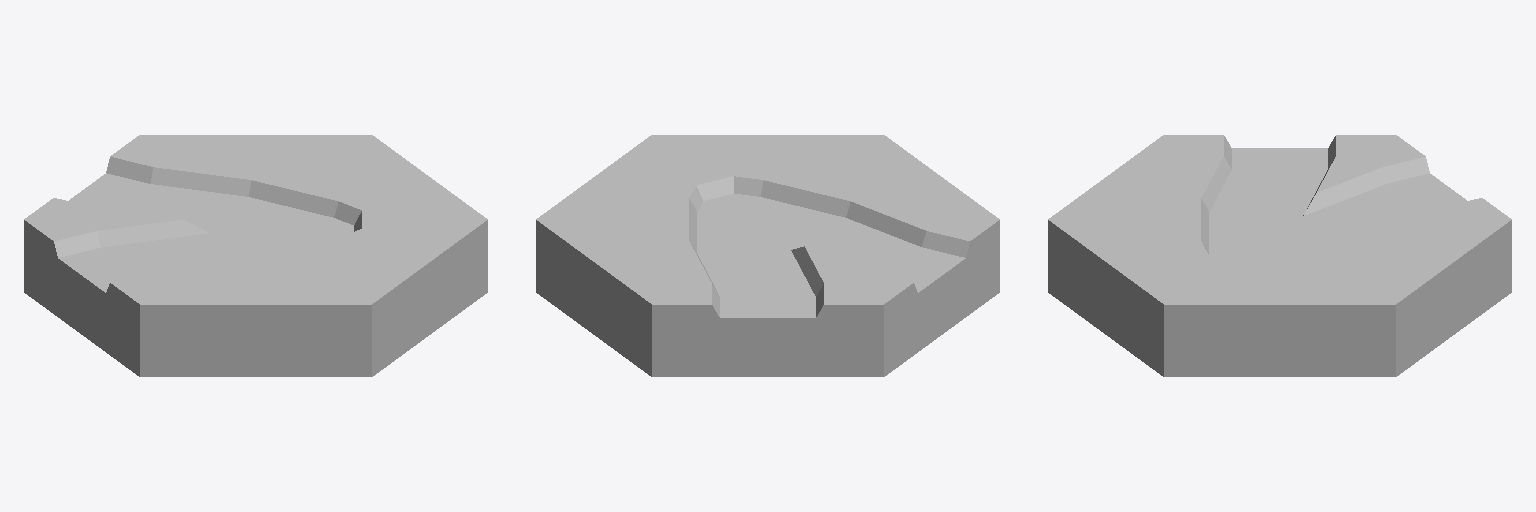
File: river_cornerSharp.obj
3 views of the same model, side by side, from view 1: azimuth 30°, elevation 25°; view 2: azimuth 150°, elevation 25°; view 3: azimuth 270°, elevation 25° (orthographic).
Visible parts, largest first — view 1: river_cornerSharp; view 2: river_cornerSharp; view 3: river_cornerSharp.
Boxes of the visible parts, x1,y1,x2,y2 form: river_cornerSharp: [24, 135, 487, 376]; river_cornerSharp: [536, 135, 999, 376]; river_cornerSharp: [1048, 135, 1511, 376].
Size of the model in its own units: 1 by 0.2 by 1.15.